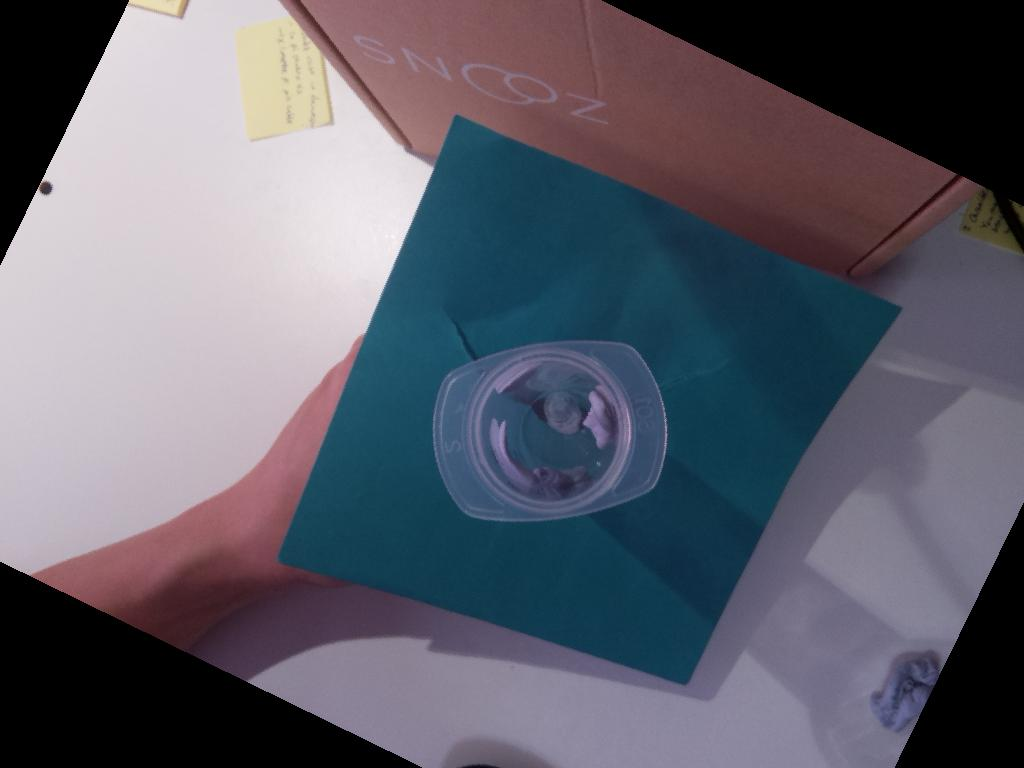dirty: (431, 340, 669, 522)
